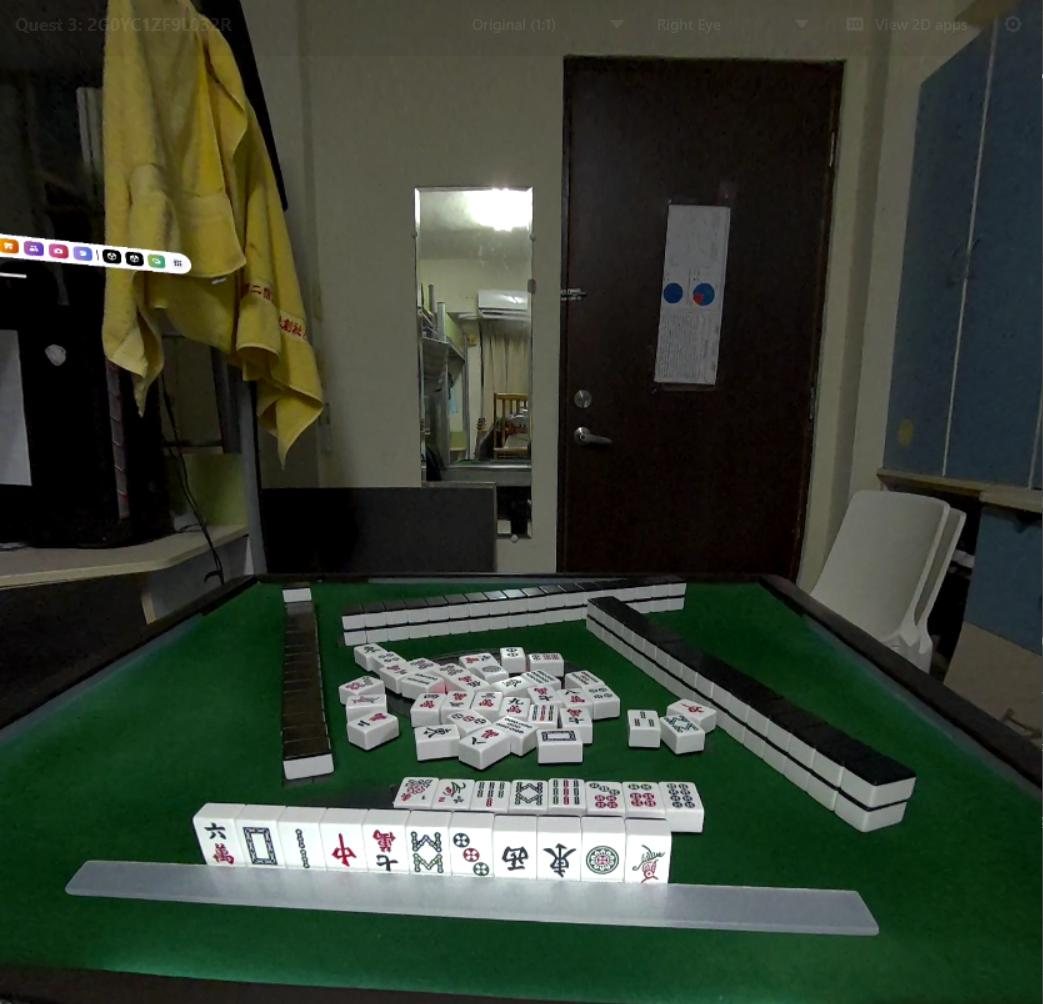mahjong: (580, 820, 626, 886), (230, 817, 279, 870), (367, 820, 408, 877), (632, 837, 676, 890), (320, 820, 363, 874), (408, 820, 448, 878), (450, 825, 494, 877), (488, 830, 534, 878), (543, 827, 582, 883), (195, 819, 238, 863), (287, 822, 320, 875)
